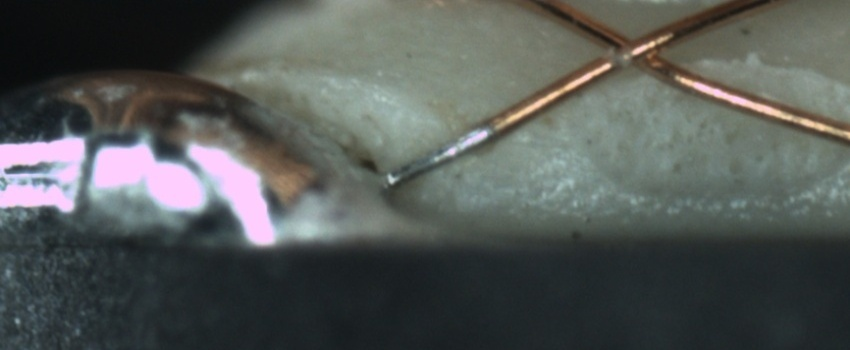CL: (585, 15, 694, 82)
DL: (446, 113, 589, 167)
TS: (384, 121, 497, 184)
TTCW: (379, 109, 504, 190)
